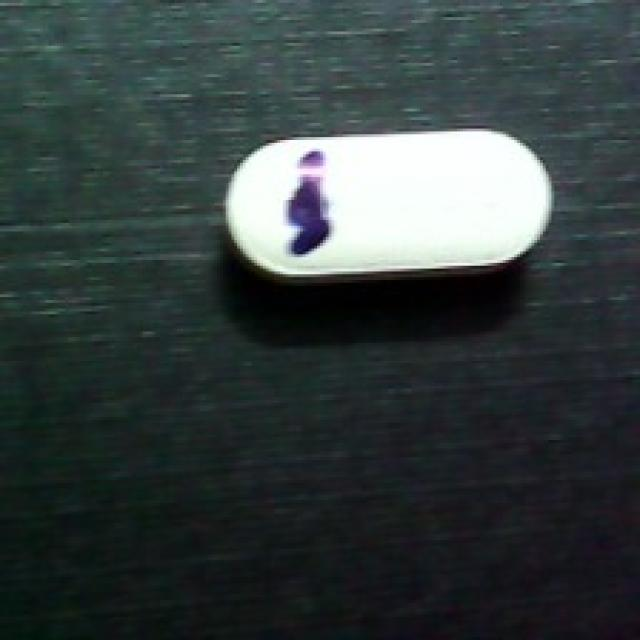defected: (214, 114, 557, 289)
